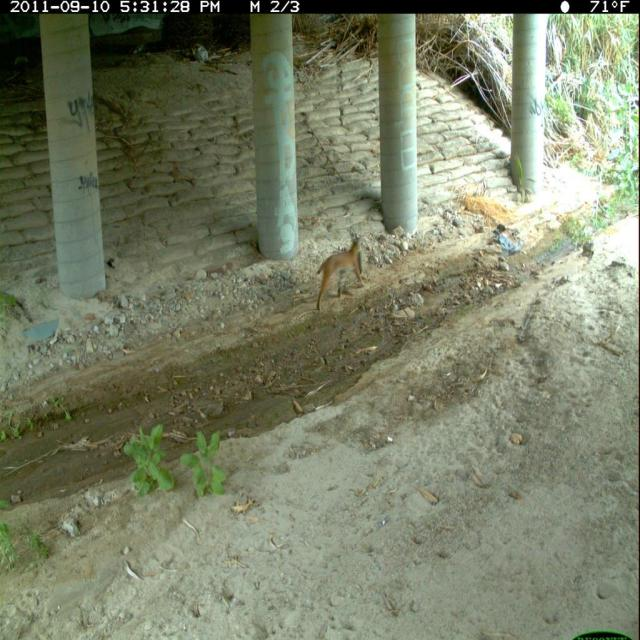bobcat: (312, 230, 369, 317)
rabbit: (354, 247, 367, 281)
